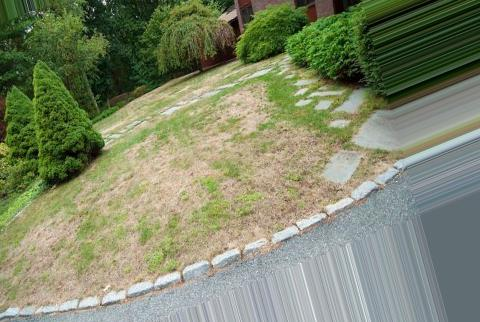patch: (30, 227, 126, 282), (136, 148, 191, 204), (236, 90, 272, 130)
